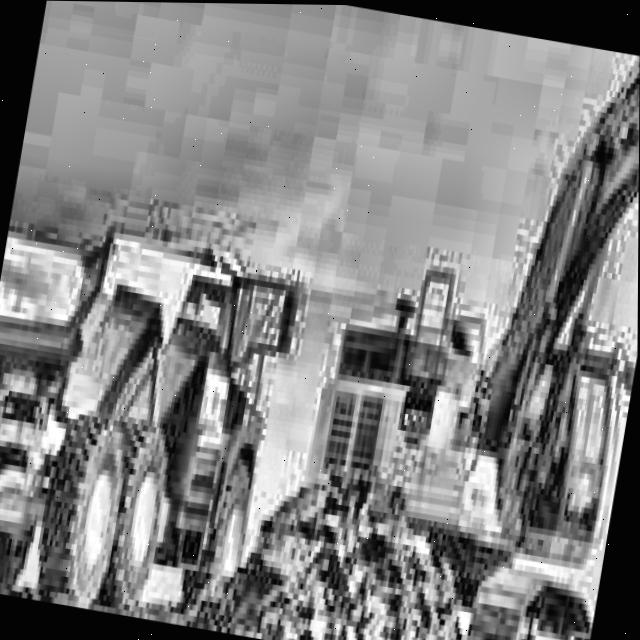dump_truck: (0, 153, 333, 639)
excavator: (281, 9, 640, 640)
